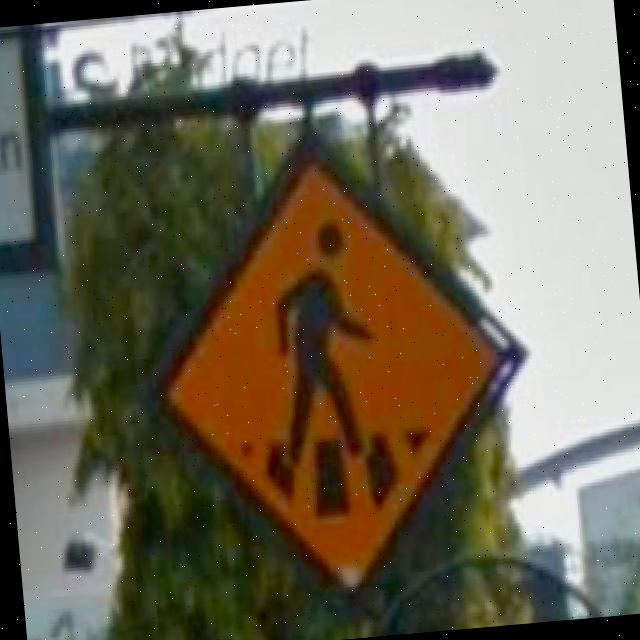Przejscie dla pieszych: (180, 157, 492, 580)
